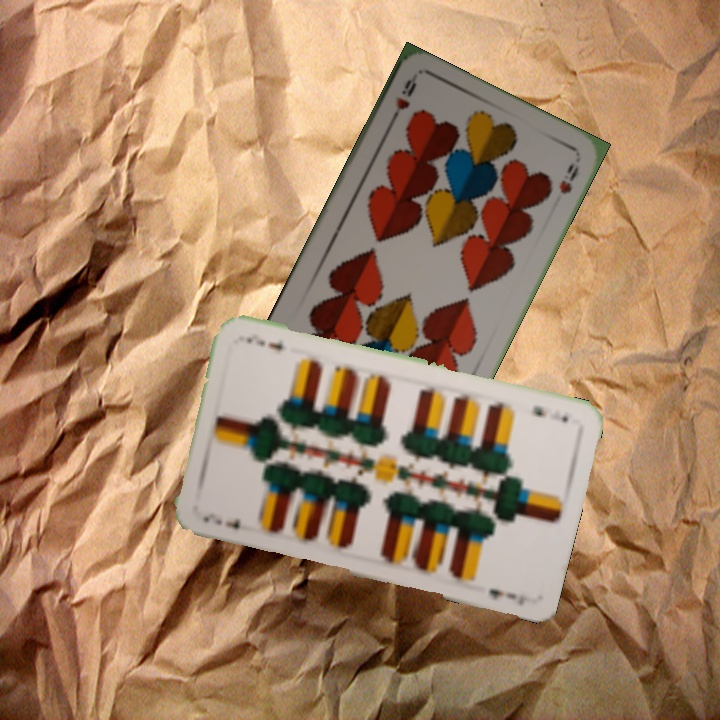E7: (198, 508, 243, 532), (528, 401, 571, 425)
H9: (385, 73, 419, 128)
